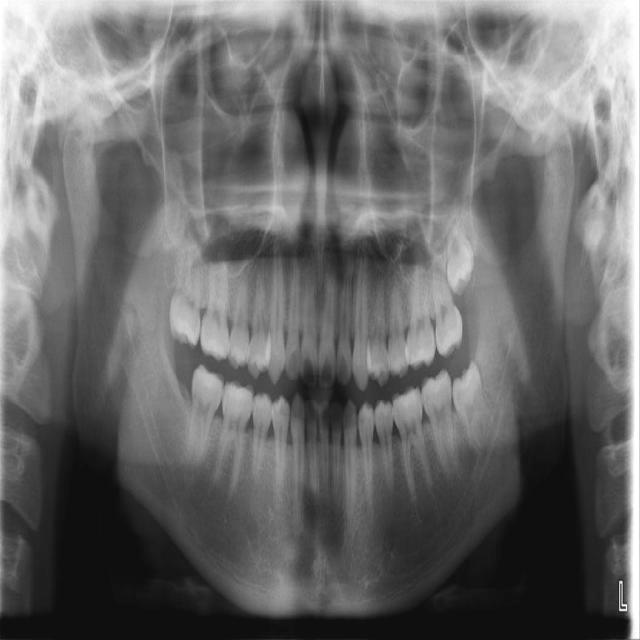impacted tooth: (452, 362, 512, 455), (446, 194, 471, 294)
